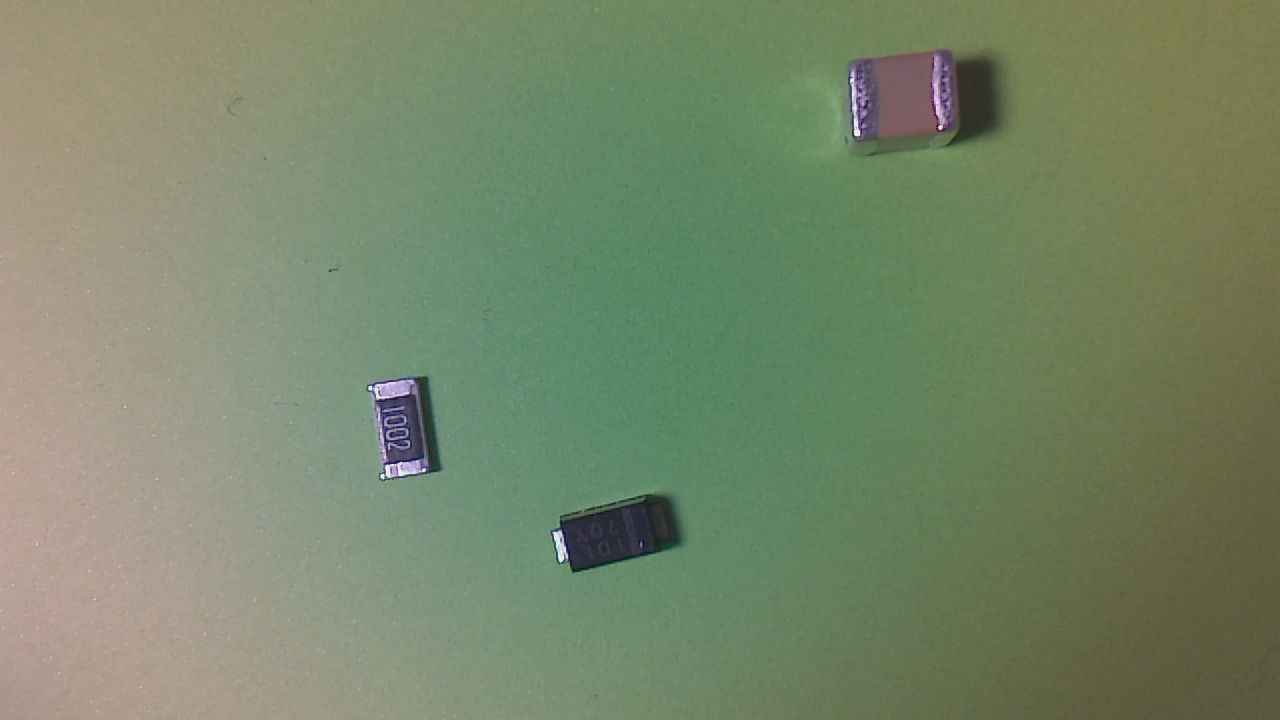Condensator: (848, 52, 966, 146)
Diode: (558, 494, 677, 580)
Resistor: (368, 381, 439, 488)
